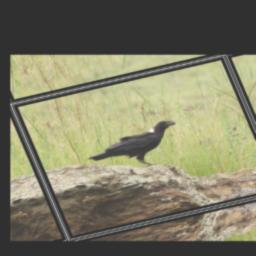Crow: (79, 117, 192, 179)
